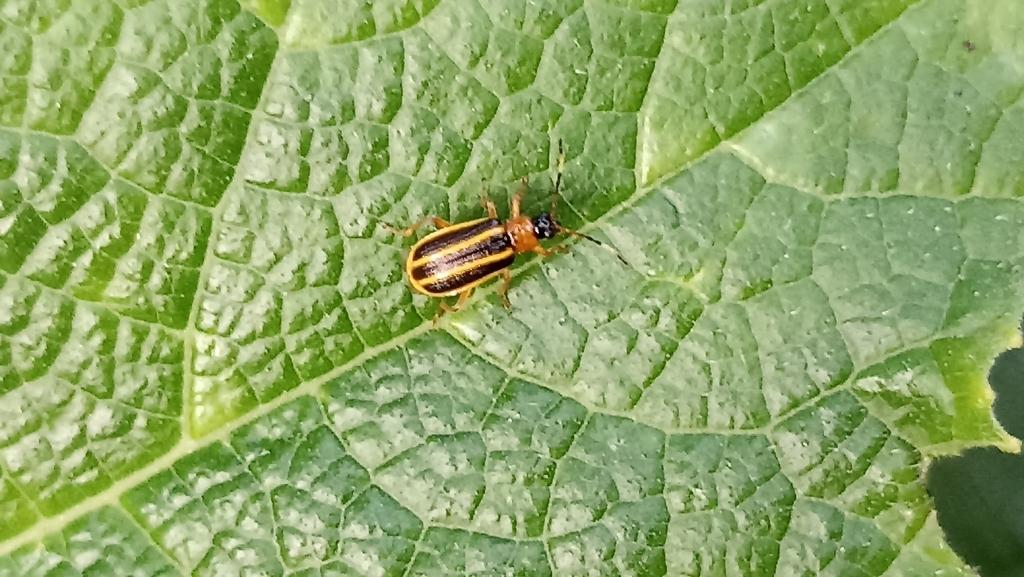potato_beetle: (343, 108, 662, 358)
